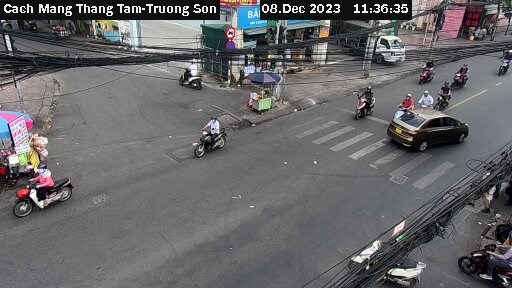car: (388, 104, 471, 152)
motorbike: (346, 231, 443, 287), (4, 169, 85, 210), (464, 220, 512, 285), (172, 54, 219, 107), (189, 112, 240, 157), (350, 85, 379, 125), (416, 57, 445, 81), (490, 48, 512, 79), (451, 63, 476, 89), (392, 93, 414, 116), (439, 85, 459, 108), (416, 88, 435, 109)
truck: (340, 19, 409, 69)
